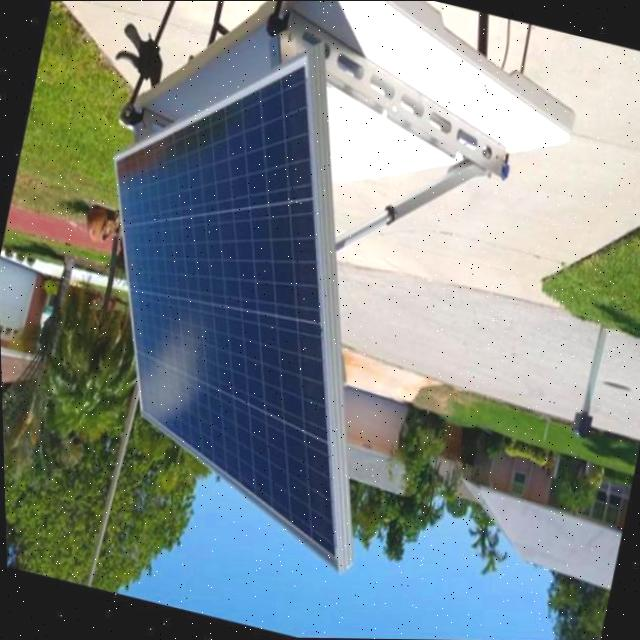Normal Solar Panel: (33, 10, 449, 572)
